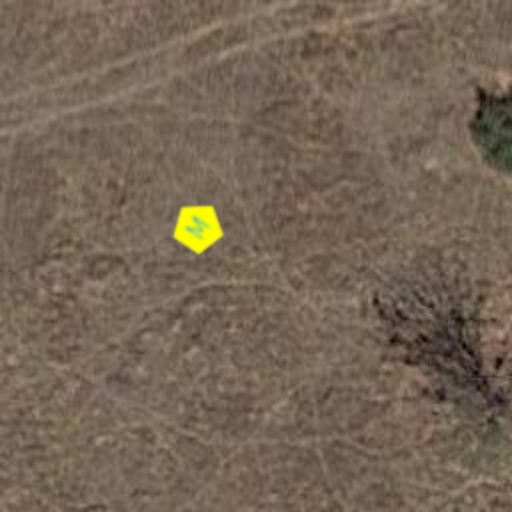pentagon: (160, 190, 236, 266)
